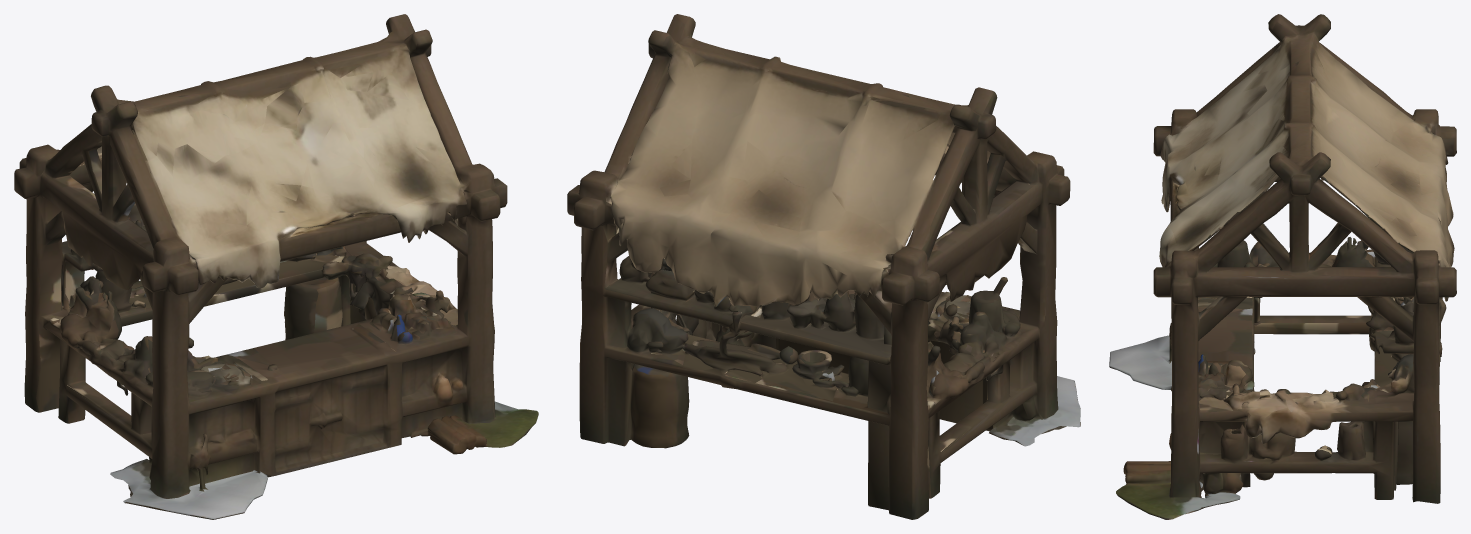
File: market_stall.glb
3 renders of one model, left to right at view 1: azimuth 30°, elevation 25°; view 2: azimuth 150°, elevation 25°; view 3: azimuth 270°, elevation 25°, orthographic. The views are drawn at different scales.
Parts seen in each view (by area): view 1: AW_Imported_market_stall; view 2: AW_Imported_market_stall; view 3: AW_Imported_market_stall.
Part boxes in pixels (box(x1,y1,x2,y2)): AW_Imported_market_stall: box(14, 14, 538, 519); AW_Imported_market_stall: box(567, 14, 1080, 519); AW_Imported_market_stall: box(1109, 14, 1456, 519).
Bounding box in the file's own units: 3.17 × 2.69 × 2.48.
Materials: 1 (1 with a texture image).
